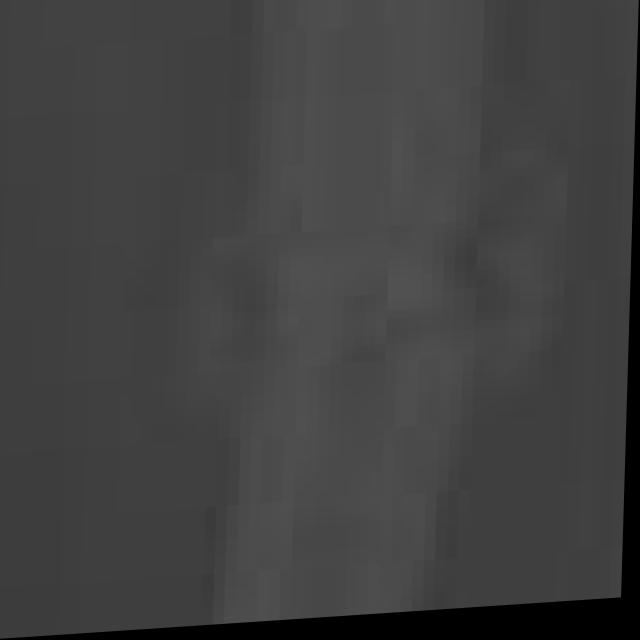fracture: (0, 4, 614, 636)
